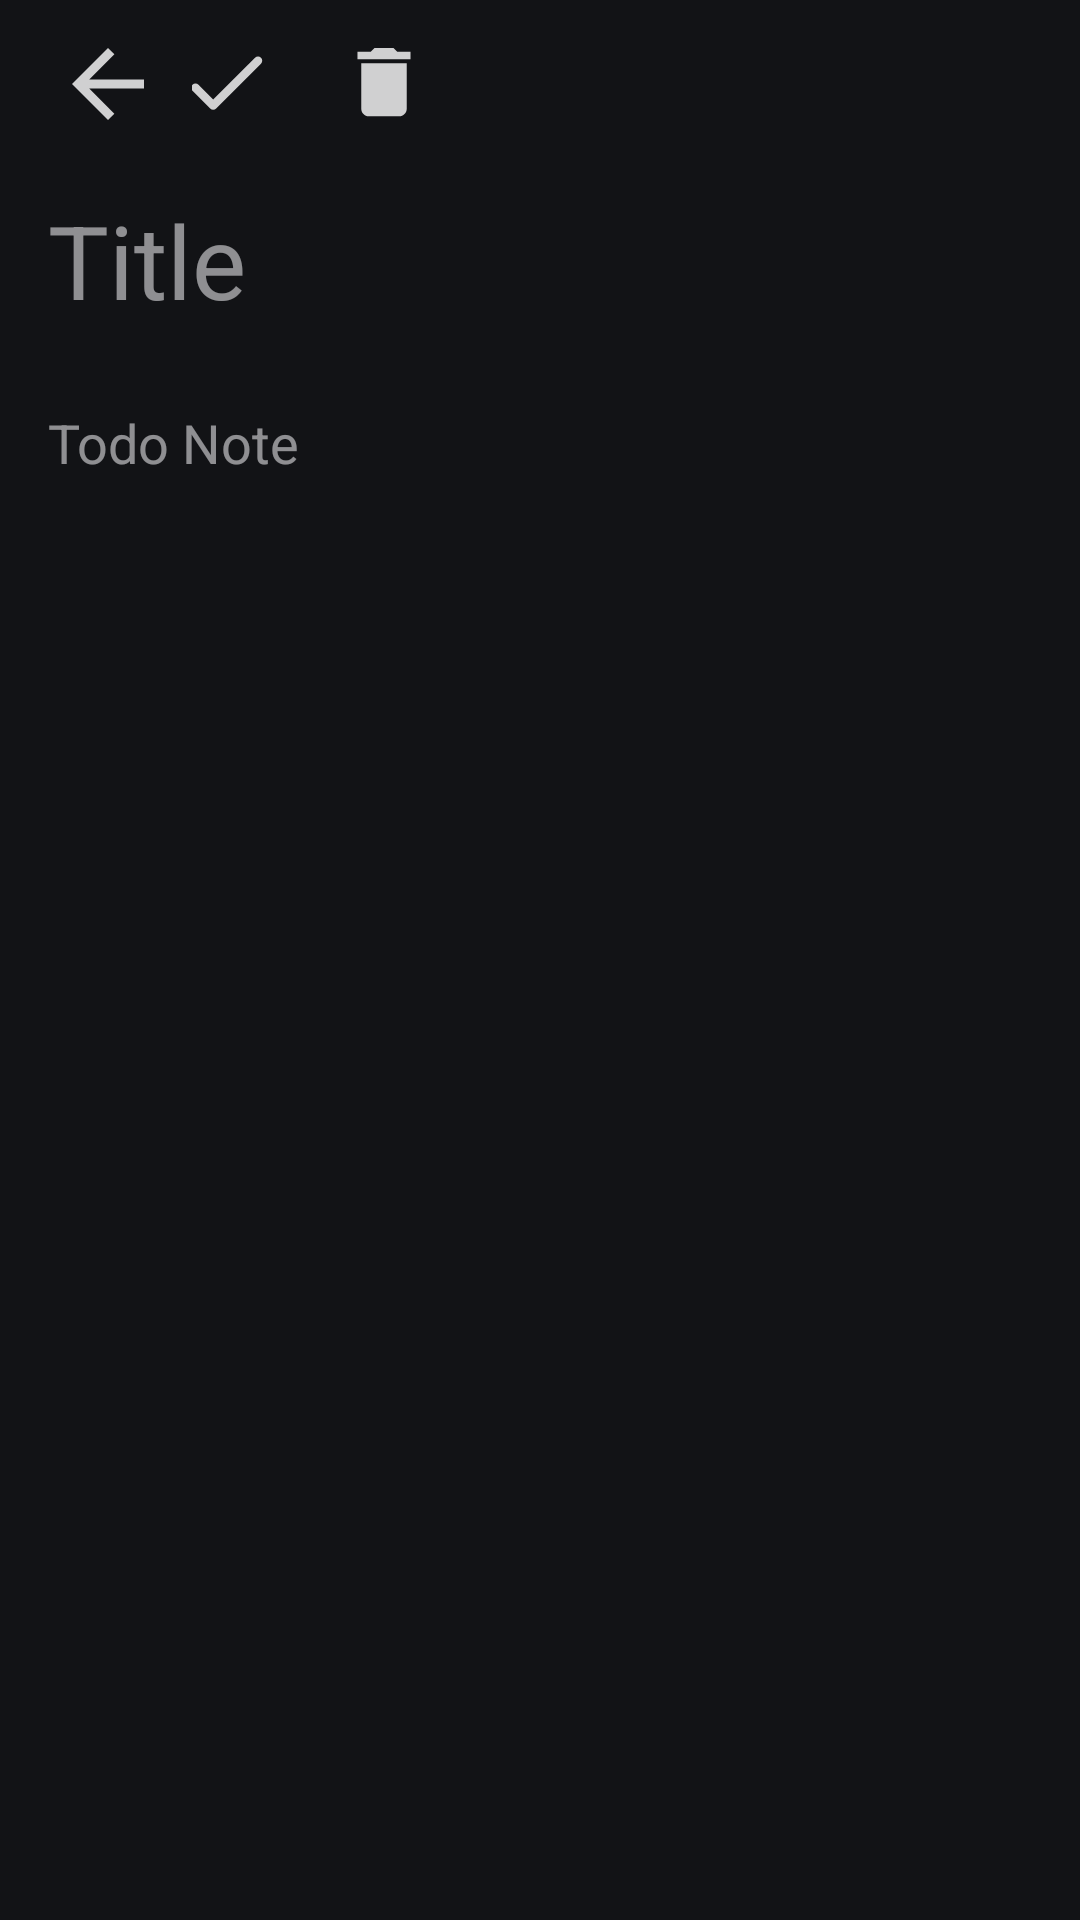

Icons on this 1080 × 1920 Android screen, each with the point to tap as (x,y):
check: (227,83)
delete: (384,82)
